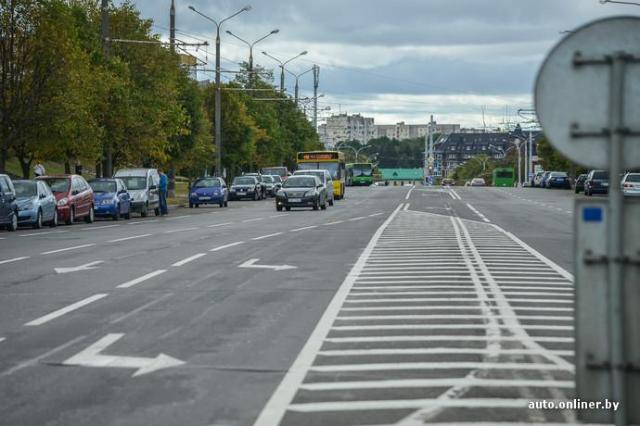bus: (297, 147, 347, 201), (349, 161, 375, 187), (491, 167, 517, 190)
car: (292, 168, 334, 206), (274, 177, 322, 210)
